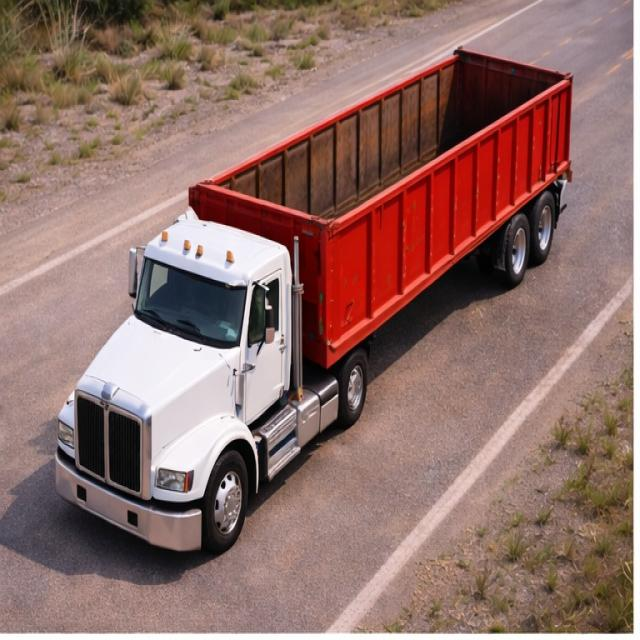trailer: (186, 41, 584, 239)
truck: (48, 30, 600, 554)
